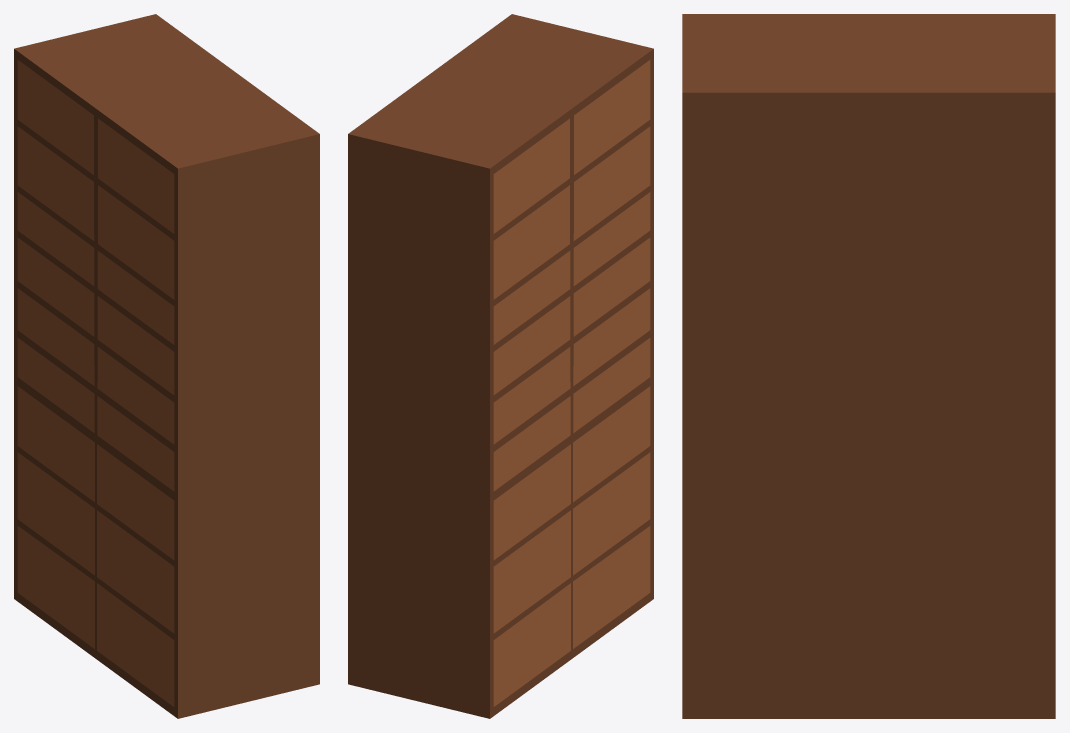
The model's file is schrank1.fbx.
3 renders of one model, left to right at view 1: azimuth 30°, elevation 25°; view 2: azimuth 150°, elevation 25°; view 3: azimuth 270°, elevation 25°, orthographic. The views are drawn at different scales.
Parts seen in each view (by area): view 1: Cube.003; view 2: Cube.003; view 3: Cube.003.
Part boxes in pixels (left/top/right/bottom): Cube.003: left=14, top=14, right=319, bottom=718; Cube.003: left=348, top=14, right=653, bottom=718; Cube.003: left=682, top=14, right=1055, bottom=718.
Size of the model in its own units: 35 by 130 by 70.
